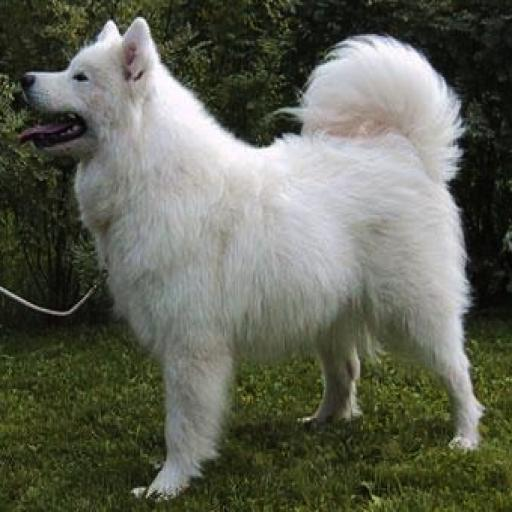dog_face: (22, 17, 145, 160)
